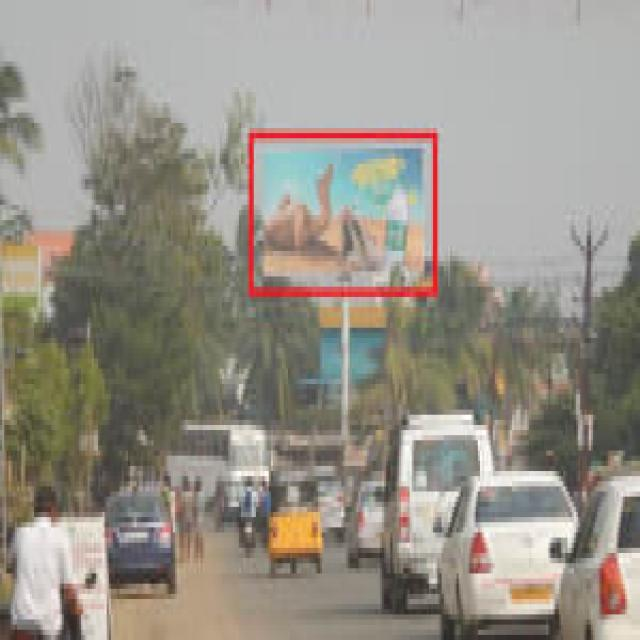Werbetafel frei: (257, 152, 427, 280)
